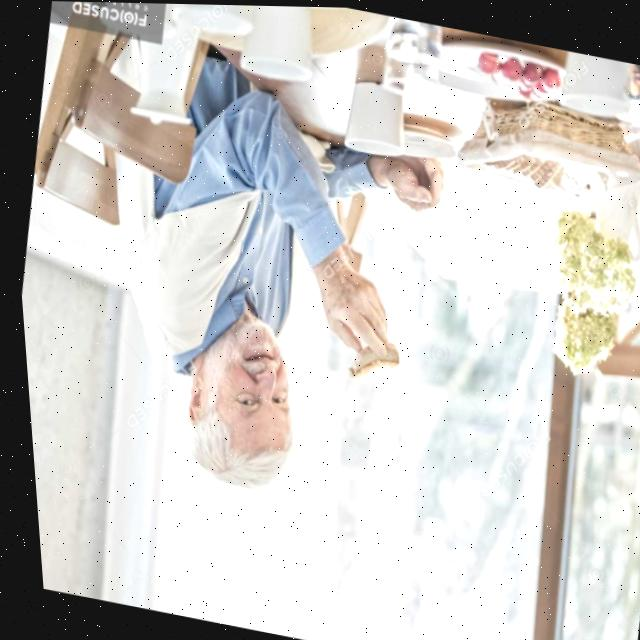eating-person: (39, 28, 492, 549)
